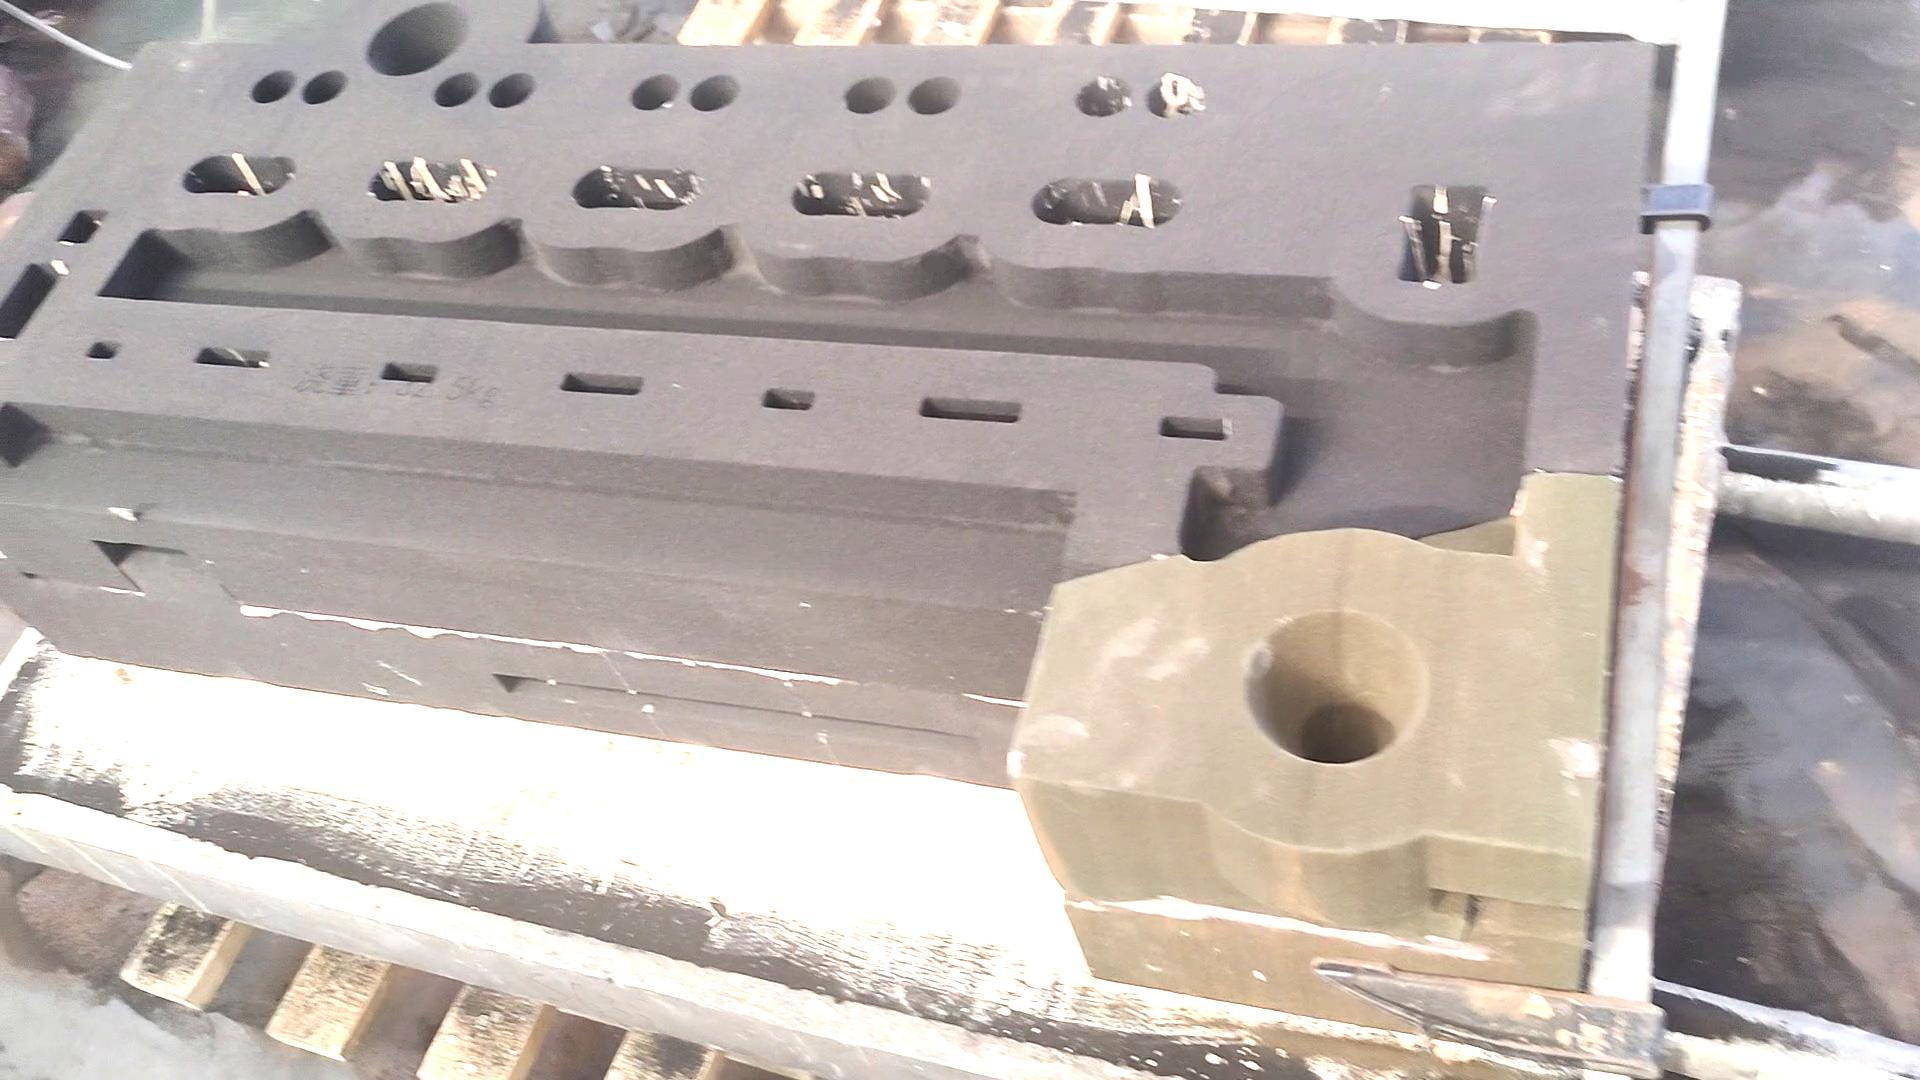pouring hole: (1240, 607, 1428, 766), (364, 3, 472, 76)
